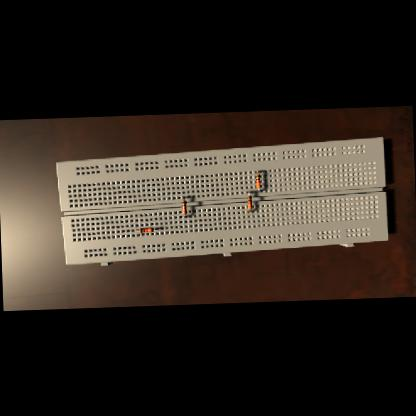breadboard: (56, 136, 390, 266)
resistor: (247, 194, 252, 209), (140, 228, 154, 233), (256, 174, 260, 188), (182, 200, 186, 214)
wire: (154, 228, 158, 230), (256, 171, 258, 174), (248, 192, 250, 195), (258, 188, 260, 190), (248, 210, 250, 212), (185, 214, 187, 216), (184, 196, 185, 199), (136, 229, 138, 230)
